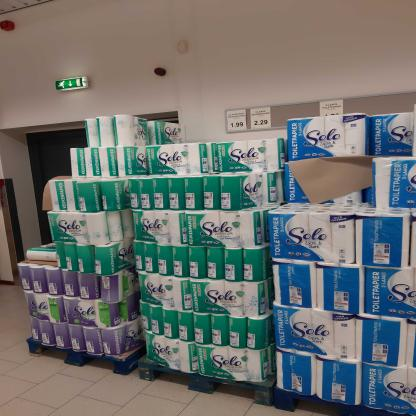prtg: (251, 108, 272, 130), (228, 110, 248, 132), (321, 101, 345, 118)
